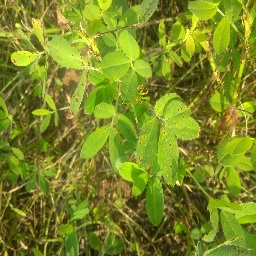GroundNut_Leaf: (156, 93, 201, 141), (156, 127, 184, 187), (219, 207, 248, 250), (46, 36, 83, 67), (80, 126, 107, 158), (147, 175, 164, 225), (99, 51, 131, 76), (213, 15, 230, 54), (189, 2, 221, 19), (227, 135, 251, 156), (209, 92, 229, 111), (93, 101, 114, 119)
